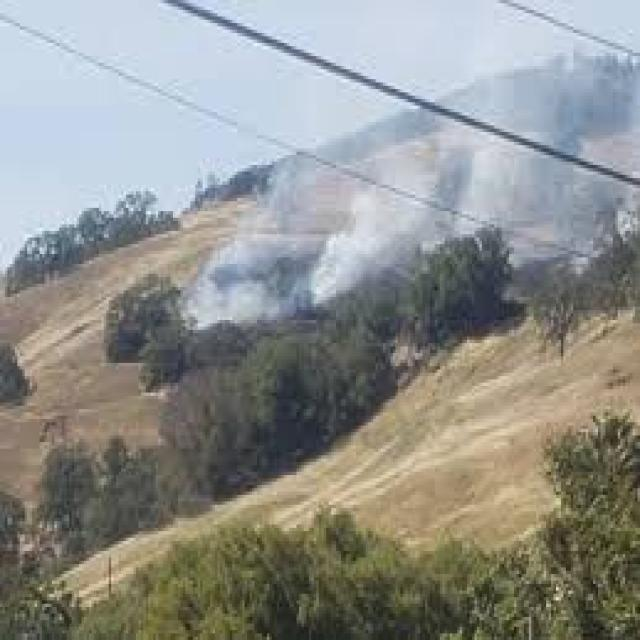Smoke: (183, 41, 640, 343)
